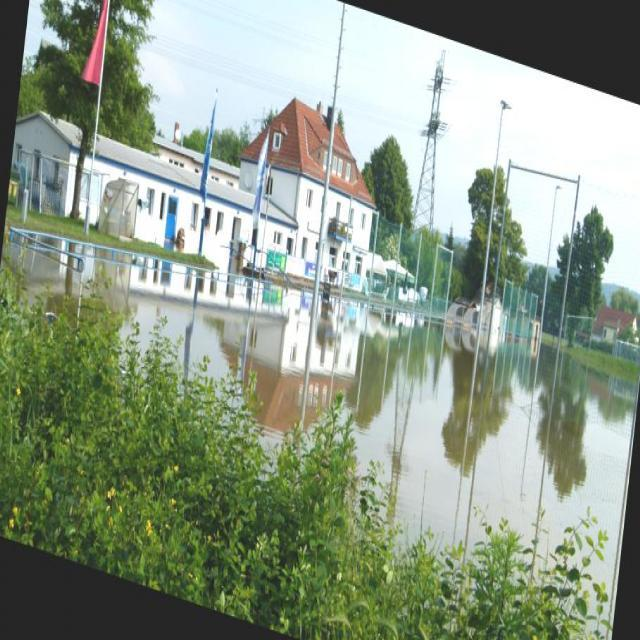flood: (0, 164, 639, 583)
